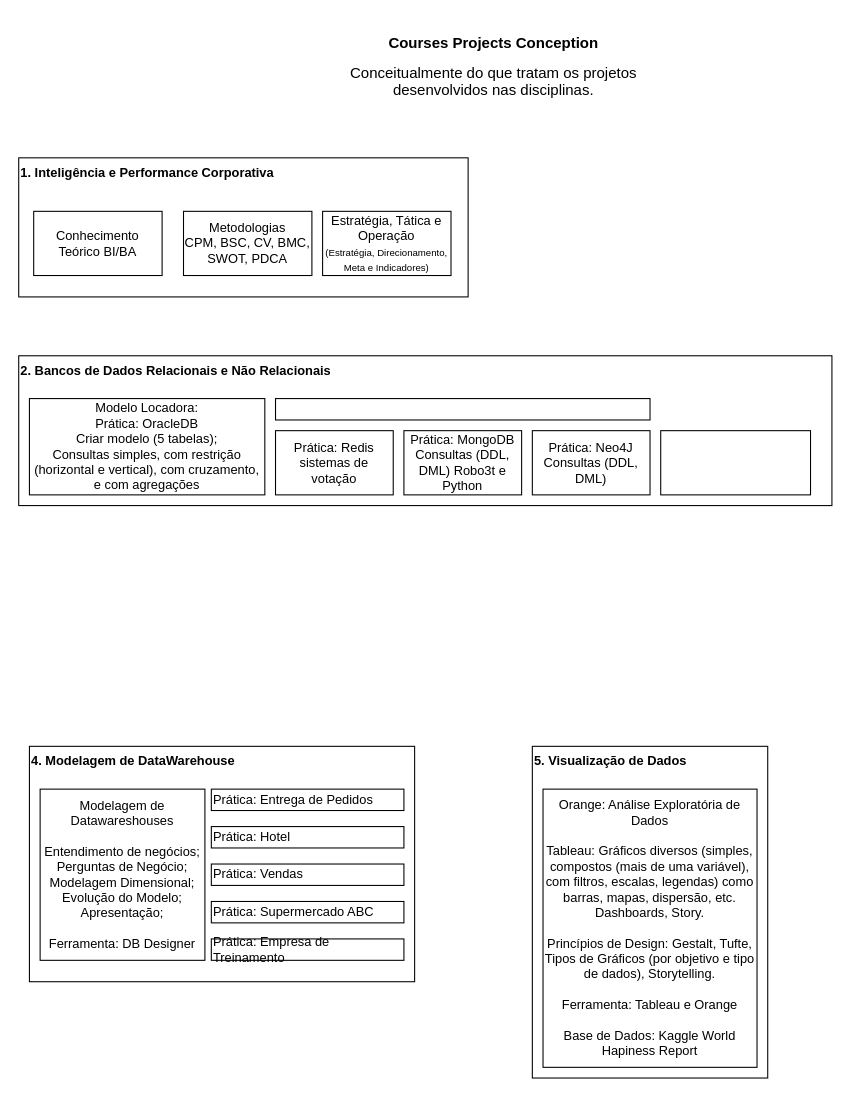
The diagram is 851 pixels wide and 1097 high, and some of its shapes have lost their labels. Here are the shapes that lost their labels. From the top down, the centre of each, then its label:
[462,409]: Modelo Musicos, Bandas, Albuns e Músicas
[735,462]: Modelo: Suppliers x Categories x Products Prática: Neo4J Consultas (DDL, DML)
